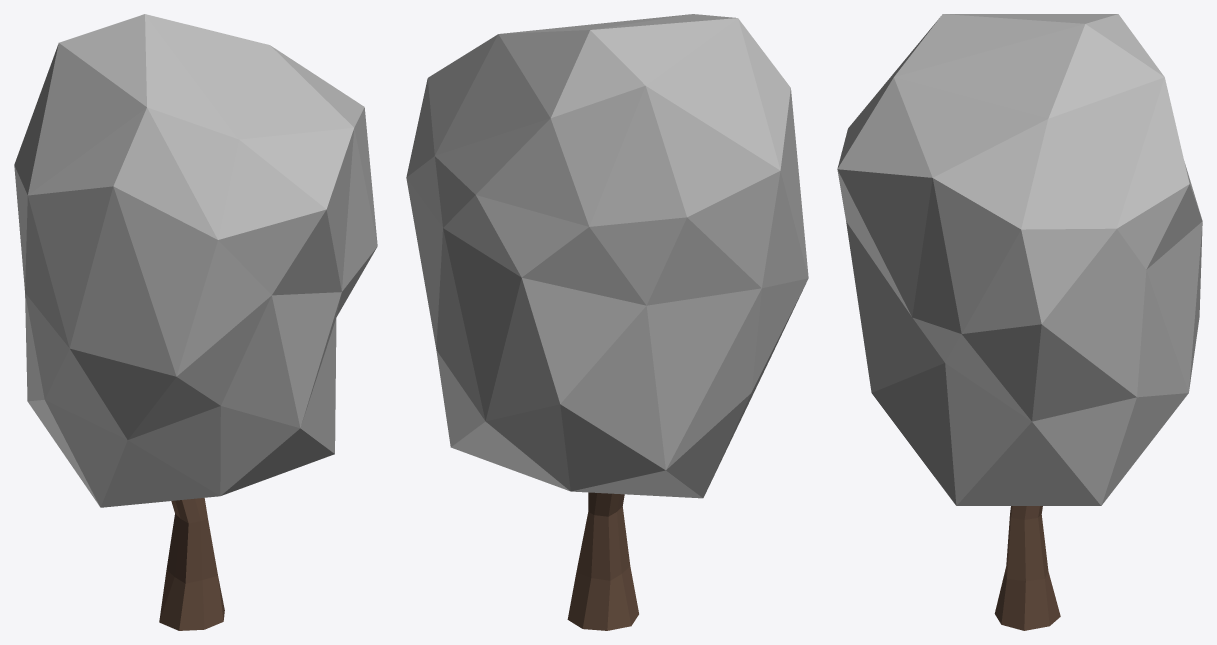
Rendered from Tree_43_White.fbx.
3 renders of one model, left to right at view 1: azimuth 30°, elevation 25°; view 2: azimuth 150°, elevation 25°; view 3: azimuth 270°, elevation 25°, orthographic. The views are drawn at different scales.
Parts seen in each view (by area): view 1: Tree_43_White_Part_1, Tree_43_White_Part_2; view 2: Tree_43_White_Part_1, Tree_43_White_Part_2; view 3: Tree_43_White_Part_1, Tree_43_White_Part_2.
Part boxes in pixels (x1,y1,x2,y2): Tree_43_White_Part_1: (14, 14, 377, 507); Tree_43_White_Part_2: (159, 498, 224, 630); Tree_43_White_Part_1: (406, 14, 808, 498); Tree_43_White_Part_2: (567, 492, 638, 630); Tree_43_White_Part_1: (837, 14, 1202, 505); Tree_43_White_Part_2: (994, 506, 1060, 630).
Bounding box in the file's own units: 500 × 807 × 458.
